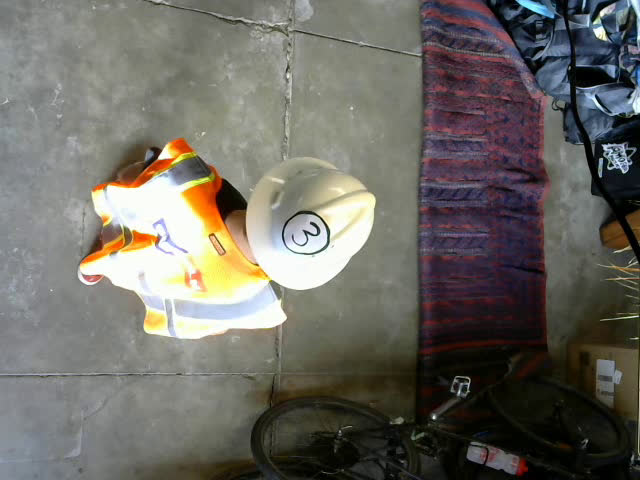three: (281, 210, 329, 254)
